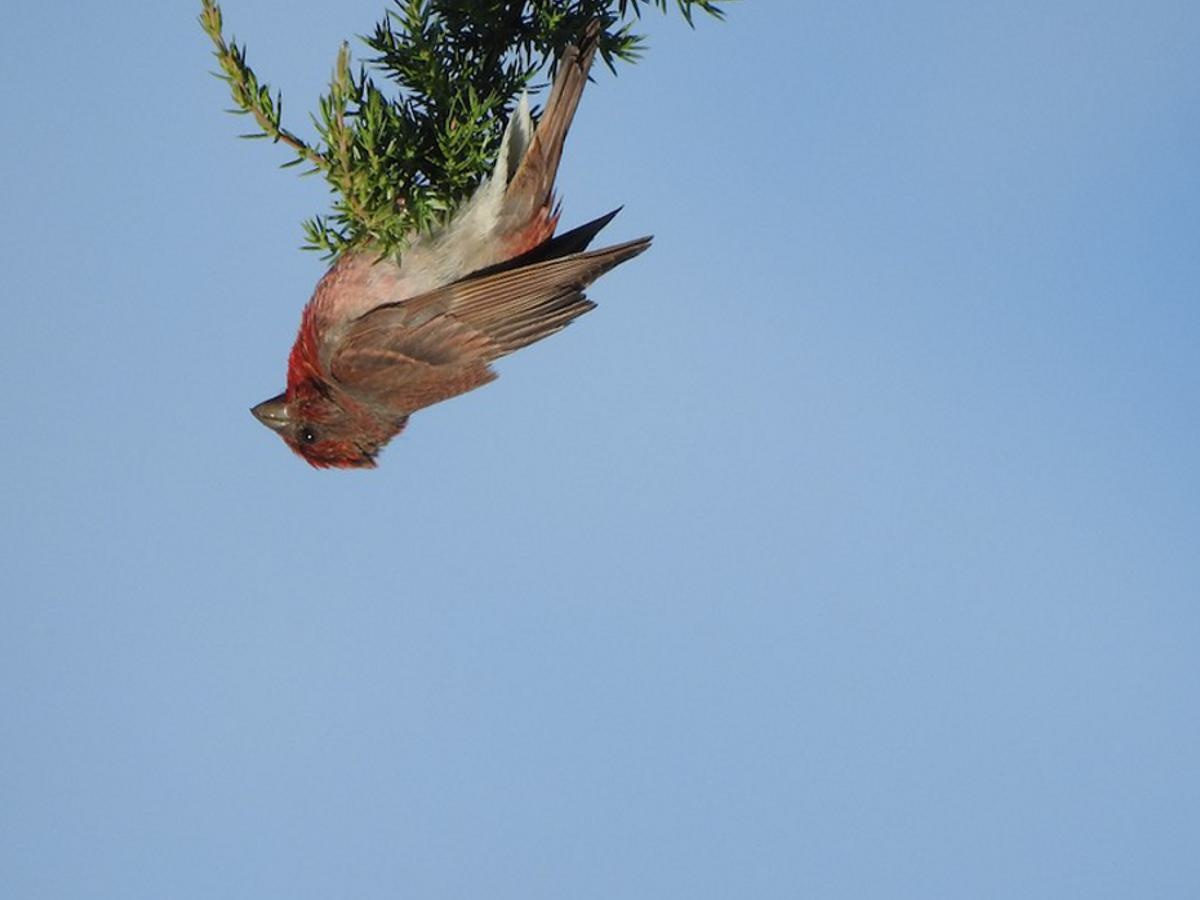rosefinch: (221, 125, 646, 471)
